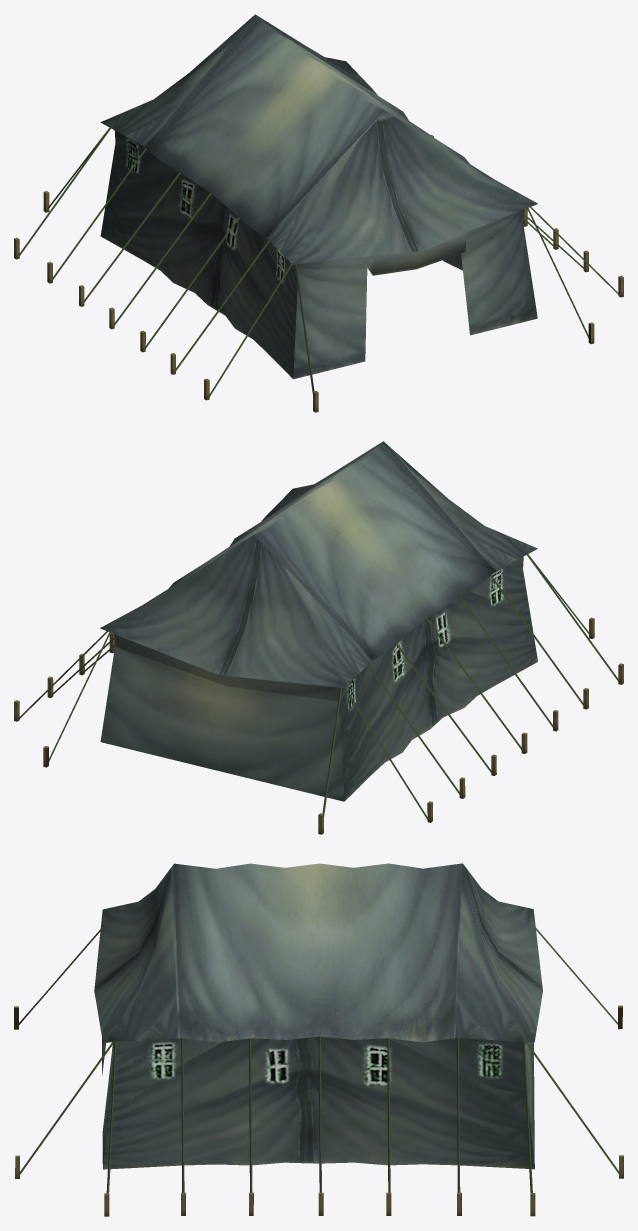
File: uploads_files_3573461_tent.fbx
3 renders of one model, top to bottom at view 1: azimuth 30°, elevation 25°; view 2: azimuth 150°, elevation 25°; view 3: azimuth 270°, elevation 25°, orthographic. The views are drawn at different scales.
Parts seen in each view (by area): view 1: 5_Material5592_1_0_0; view 2: 5_Material5592_1_0_0; view 3: 5_Material5592_1_0_0.
Part boxes in pixels (x1,y1,x2,y2): 5_Material5592_1_0_0: (14,14,623,412); 5_Material5592_1_0_0: (14,441,623,834); 5_Material5592_1_0_0: (14,863,623,1216).
Size of the model in its own units: 51.43 by 25.35 by 58.09.
Materials: 1 (1 with a texture image).
